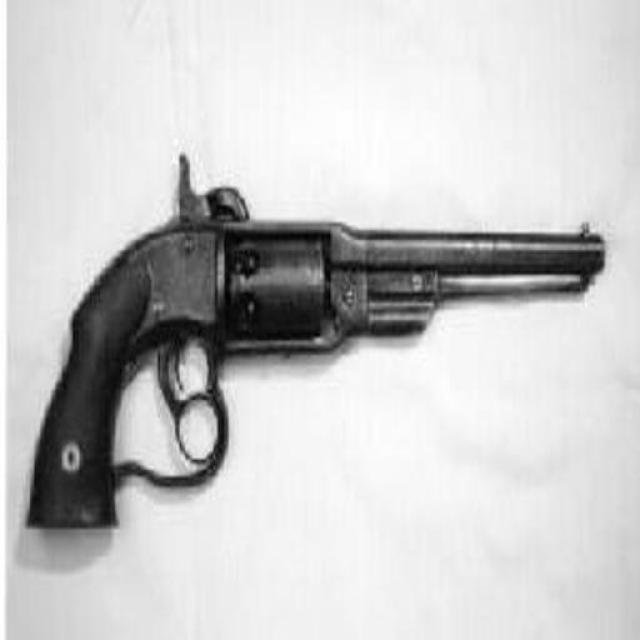pistol: (22, 127, 610, 531)
